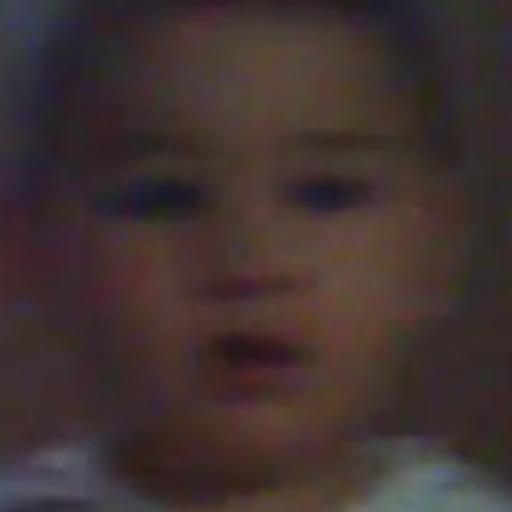Autism: (18, 5, 479, 512)
